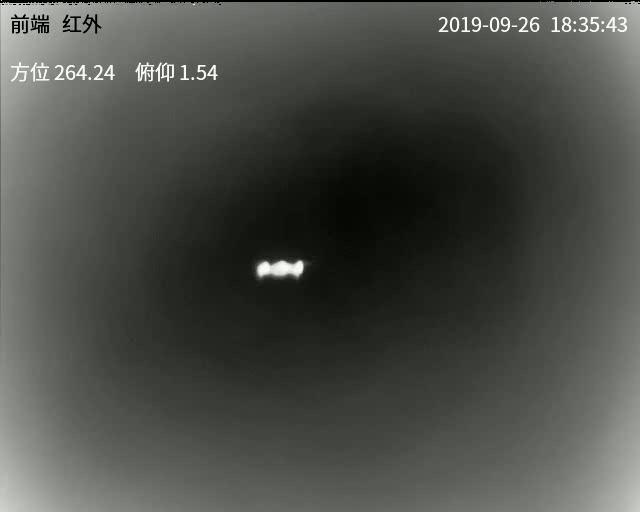DRONE: (255, 260, 305, 279)
